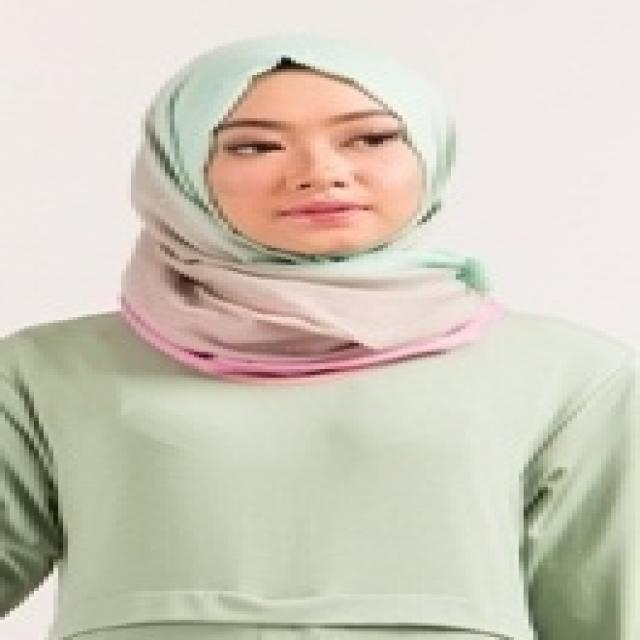head: (154, 32, 454, 263)
